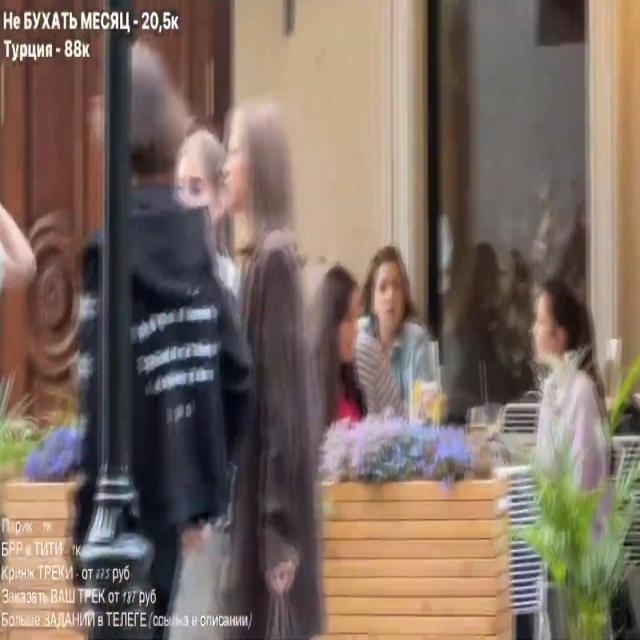Person: (348, 245, 440, 424)
